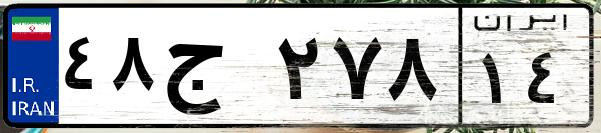1: (475, 38, 525, 113)
2: (270, 28, 330, 110)
4: (57, 26, 110, 100), (525, 38, 570, 115)
7: (330, 28, 385, 110)
8: (385, 28, 445, 110), (110, 28, 158, 98)
ج: (158, 20, 270, 120)
